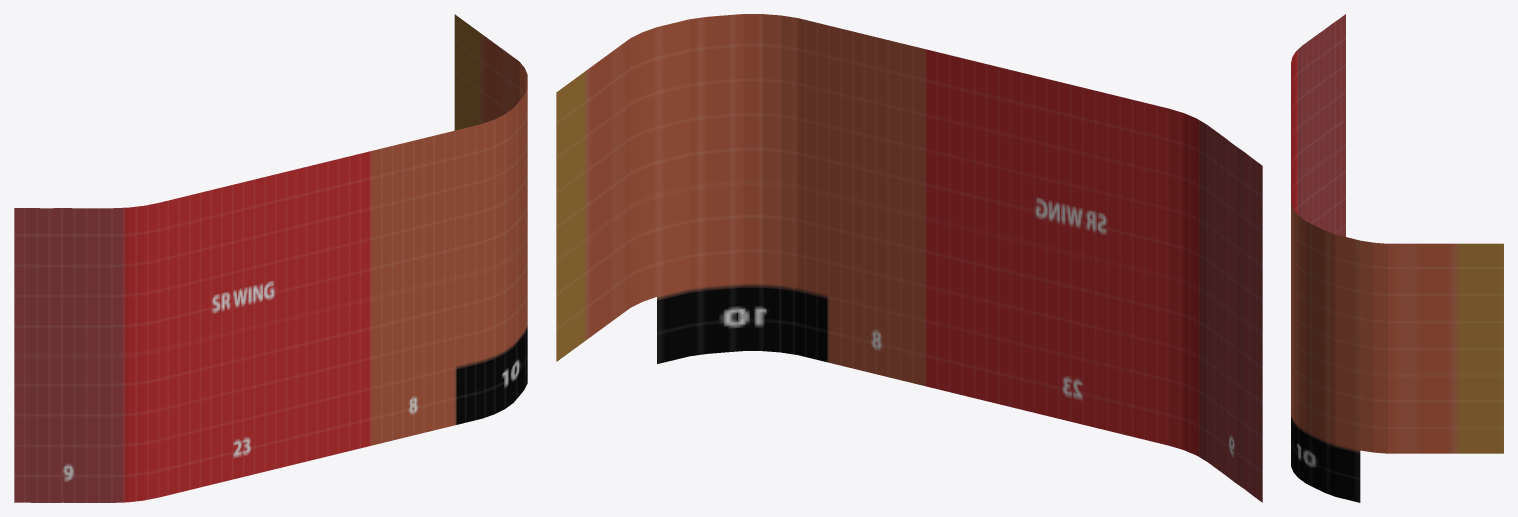
File: ANYMA_Coachella_Stage_v015_SR_WING_CORR_ORTHO.glb
3 renders of one model, left to right at view 1: azimuth 30°, elevation 25°; view 2: azimuth 150°, elevation 25°; view 3: azimuth 270°, elevation 25°, orthographic. The views are drawn at different scales.
Visible parts, largest first — view 1: LED_SR_WING_corrected_ortho; view 2: LED_SR_WING_corrected_ortho; view 3: LED_SR_WING_corrected_ortho.
Part boxes in pixels (x1=…): LED_SR_WING_corrected_ortho: x1=14, y1=14, x2=527, y2=502; LED_SR_WING_corrected_ortho: x1=556, y1=14, x2=1262, y2=502; LED_SR_WING_corrected_ortho: x1=1291, y1=14, x2=1503, y2=502.
Bounding box in the file's own units: 22.54 × 12 × 8.83.
1 material, 1 textured.
